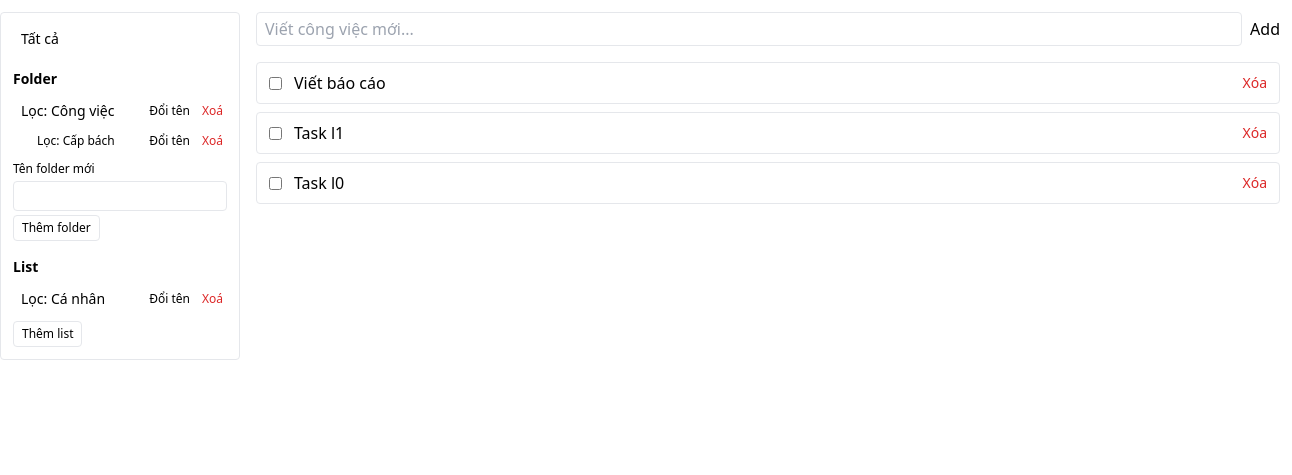
Test case: TasksWorkspace filter › bấm tên task mở panel chi tiết với checklist và subtask
The width and height of the screenshot is (1292, 475).
Click the button with aria-label "mở chi tiết Viết báo cáo". click: (340, 83)
box: 294,71 -> 386,95
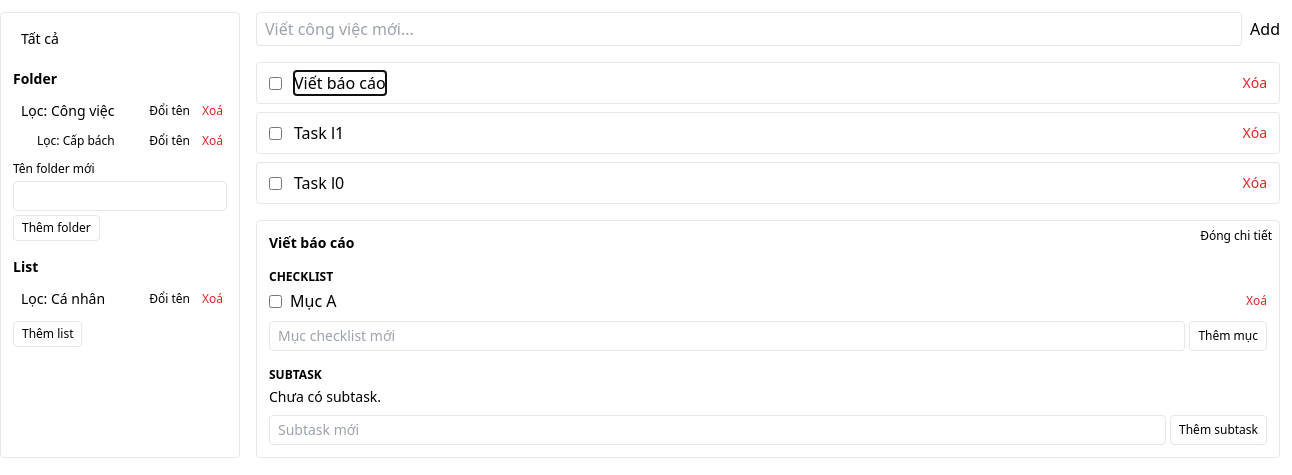
Now the text "Mục A" is shown, box 290,289 -> 336,313
